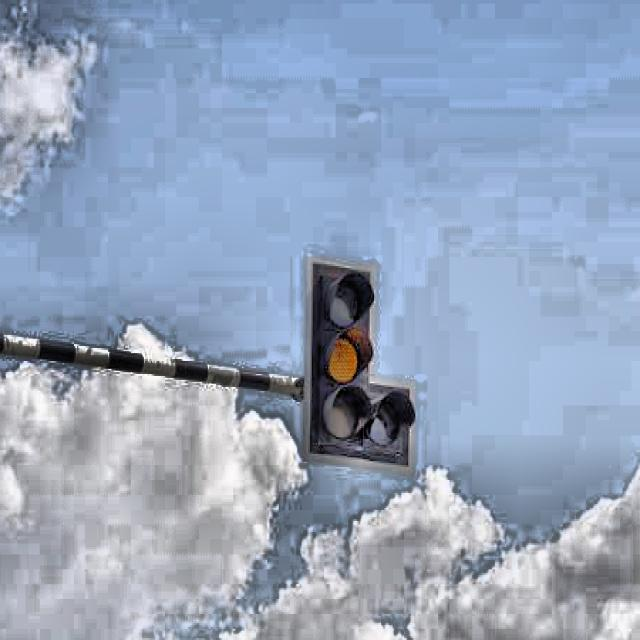yellow: (320, 272, 372, 448)
